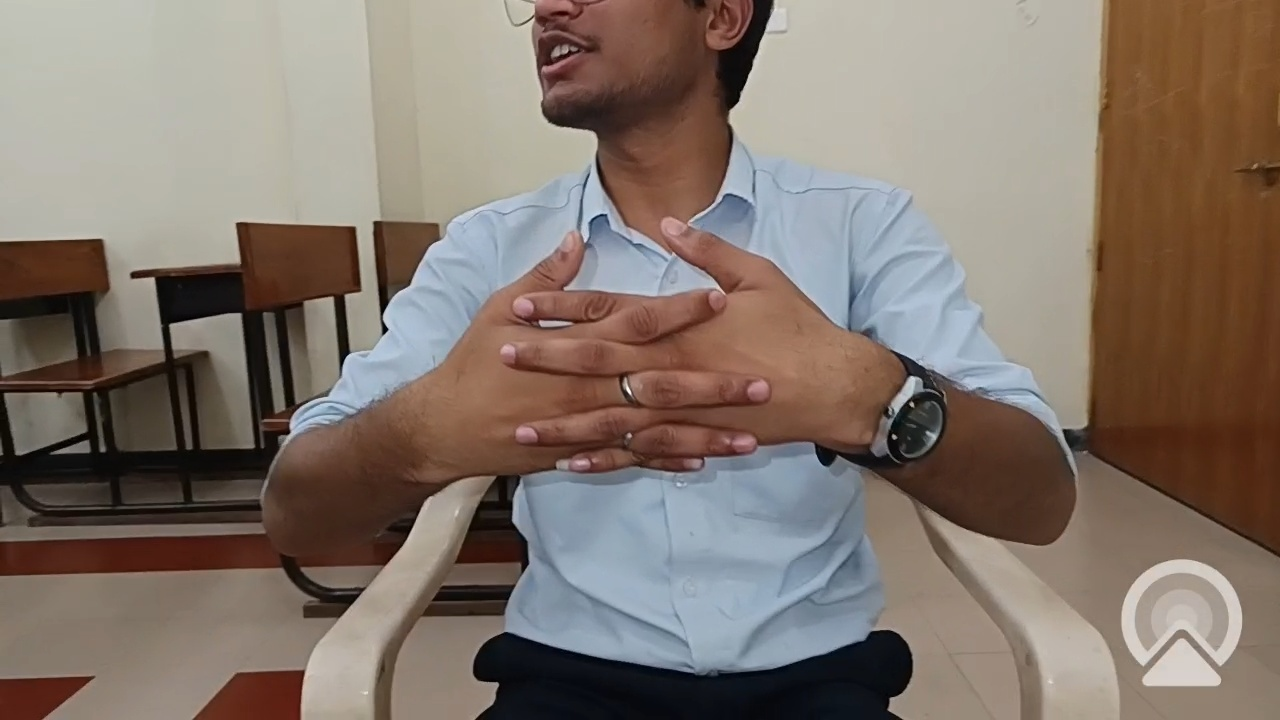W: (395, 197, 926, 549)
